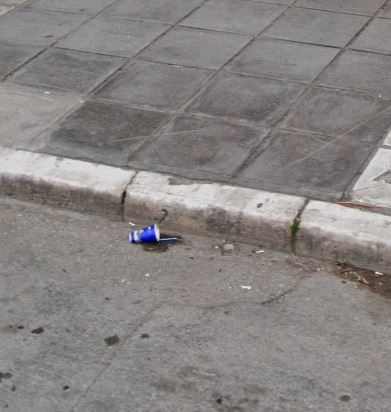trash: (120, 214, 183, 253)
